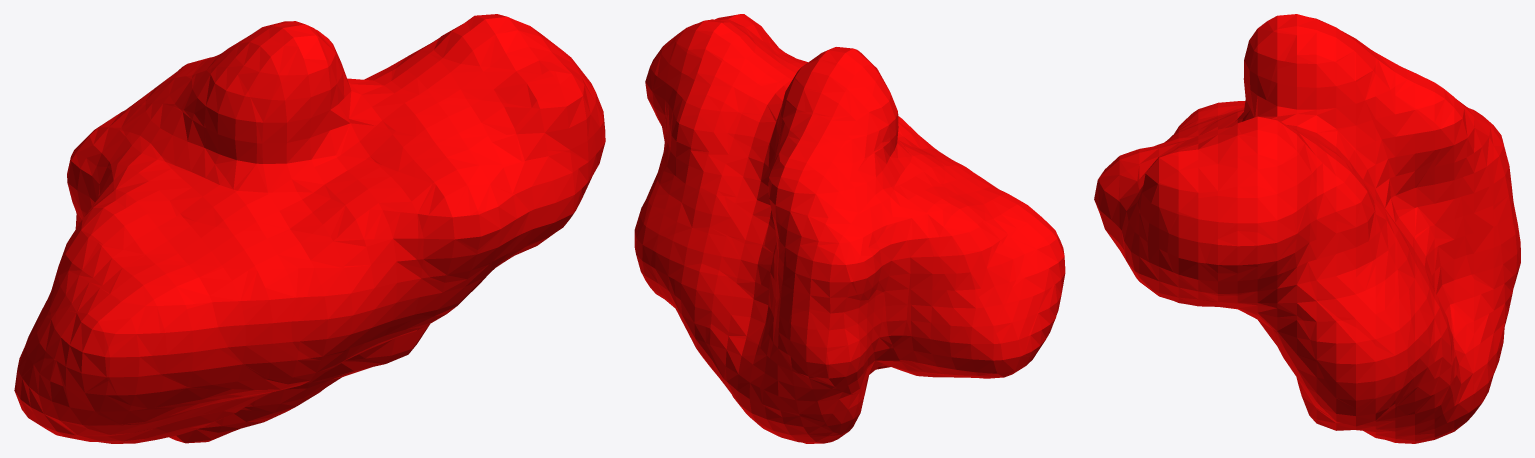
File: yhcB_coarse.dae
3 views of the same model, side by side, from view 1: azimuth 30°, elevation 25°; view 2: azimuth 150°, elevation 25°; view 3: azimuth 270°, elevation 25° (orthographic). The views are drawn at different scales.
Parts seen in each view (by area): view 1: yhcB; view 2: yhcB; view 3: yhcB.
Boxes of the visible parts, <box> form: yhcB: <box>14,14,605,443</box>; yhcB: <box>634,14,1065,443</box>; yhcB: <box>1094,14,1520,443</box>.
Size of the model in its own units: 51.68 by 41.86 by 38.02.
